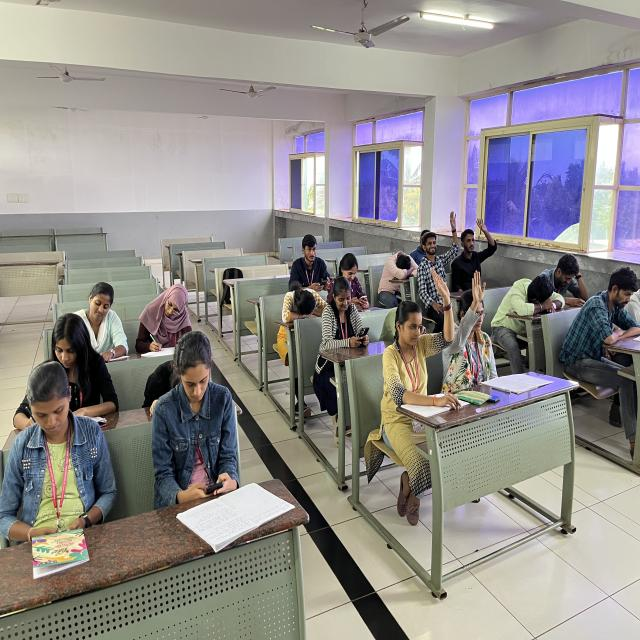Hand Rising: (378, 268, 448, 520), (438, 271, 497, 409), (426, 236, 464, 333), (452, 215, 496, 297)
Reading: (13, 314, 119, 431), (72, 283, 128, 363)
Sleeping: (492, 271, 569, 376), (283, 282, 331, 352), (378, 248, 420, 296)
Using Phone: (0, 360, 119, 544), (149, 331, 237, 504), (318, 275, 364, 445), (328, 254, 368, 311), (289, 236, 328, 292)
Writing: (135, 284, 193, 354)
